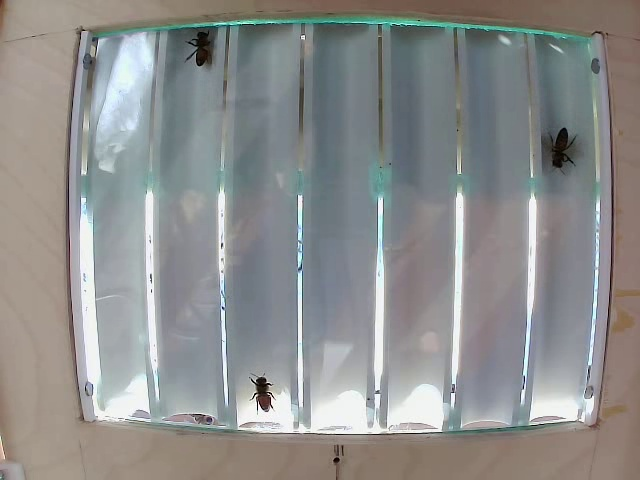bee: (182, 34, 235, 77), (537, 123, 570, 184), (246, 373, 292, 415)
